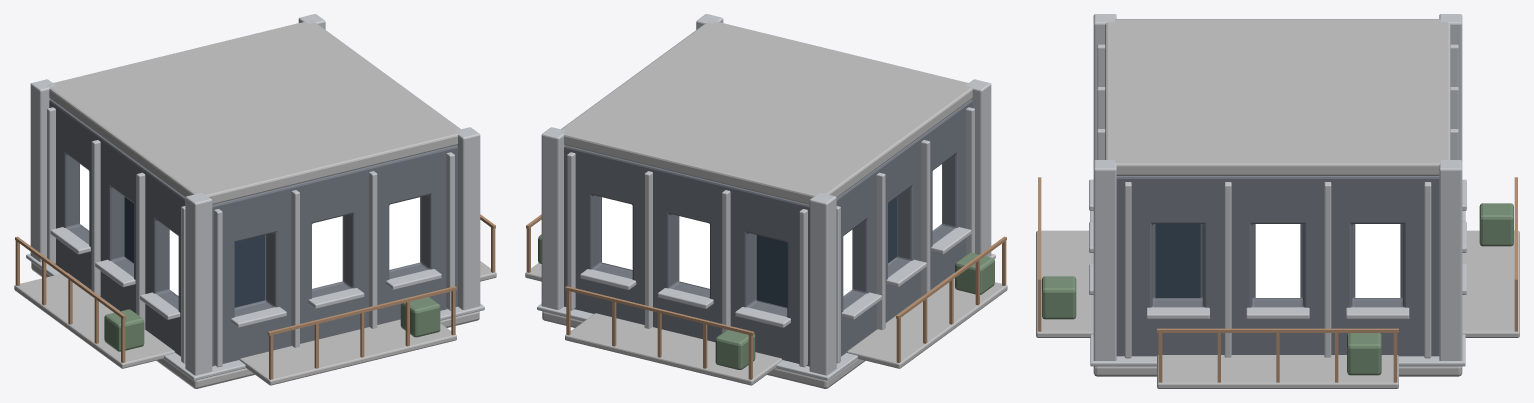
Rendered from res3.glb.
The picture shows the model from 3 angles, left to right: view 1: azimuth 30°, elevation 25°; view 2: azimuth 150°, elevation 25°; view 3: azimuth 270°, elevation 25°; orthographic projection. The views are drawn at different scales.
Parts seen in each view (by area): view 1: int_ceiling, ext_wall, ext_frames, int_columns, ext_balcony3, ext_panes_lit, ext_balcony2, ext_panes_dark, ext_rail3, ext_rail2, ext_plant2, int_slab (+2 smaller); view 2: int_ceiling, ext_wall, ext_frames, int_columns, ext_balcony1, ext_panes_lit, ext_balcony2, ext_panes_dark, ext_rail1, ext_rail2, ext_plant1, ext_plant2 (+2 smaller); view 3: int_ceiling, ext_wall, int_columns, ext_frames, ext_balcony0, ext_panes_lit, ext_balcony1, ext_balcony3, ext_panes_dark, ext_rail0, ext_plant1, ext_plant3 (+5 smaller).
Boxes of the visible parts, x1,y1,x2,y2 form: int_ceiling: [47, 20, 462, 204]; ext_wall: [49, 99, 457, 366]; ext_frames: [47, 107, 454, 367]; int_columns: [30, 14, 480, 375]; ext_balcony3: [239, 319, 456, 385]; ext_panes_lit: [80, 164, 419, 295]; ext_balcony2: [14, 273, 174, 368]; ext_panes_dark: [124, 197, 264, 307]; ext_rail3: [267, 286, 456, 379]; ext_rail2: [15, 236, 125, 362]; ext_plant2: [104, 309, 144, 351]; int_slab: [31, 262, 479, 388]; int_ceiling: [559, 21, 972, 204]; ext_wall: [564, 99, 972, 366]; ext_frames: [567, 107, 974, 367]; int_columns: [541, 14, 991, 375]; ext_balcony1: [565, 313, 782, 385]; ext_panes_lit: [602, 164, 941, 295]; ext_balcony2: [847, 273, 1007, 368]; ext_panes_dark: [757, 197, 897, 307]; ext_rail1: [565, 286, 754, 379]; ext_rail2: [896, 236, 1006, 362]; ext_plant1: [715, 329, 755, 369]; ext_plant2: [955, 252, 994, 294]; int_ceiling: [1105, 19, 1450, 175]; ext_wall: [1116, 176, 1439, 356]; int_columns: [1093, 14, 1462, 360]; ext_frames: [1089, 44, 1466, 358]; ext_balcony0: [1157, 355, 1398, 388]; ext_panes_lit: [1255, 224, 1400, 297]; ext_balcony1: [1462, 230, 1519, 337]; ext_balcony3: [1036, 230, 1093, 337]; ext_panes_dark: [1155, 224, 1200, 297]; ext_rail0: [1157, 328, 1398, 382]; ext_plant1: [1479, 203, 1513, 246]; ext_plant3: [1042, 276, 1076, 319].
Size of the model in its own units: 4.2 by 2 by 4.2.
